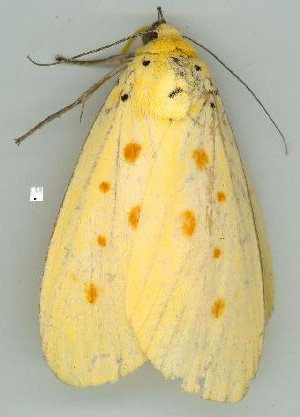Agape chloropyga: (7, 2, 290, 402)
moth: (10, 1, 293, 401)
